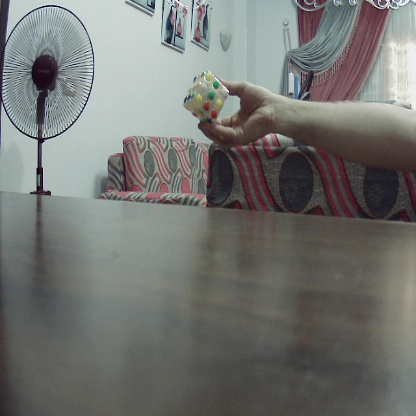Rubix Cube: (182, 73, 234, 122)
